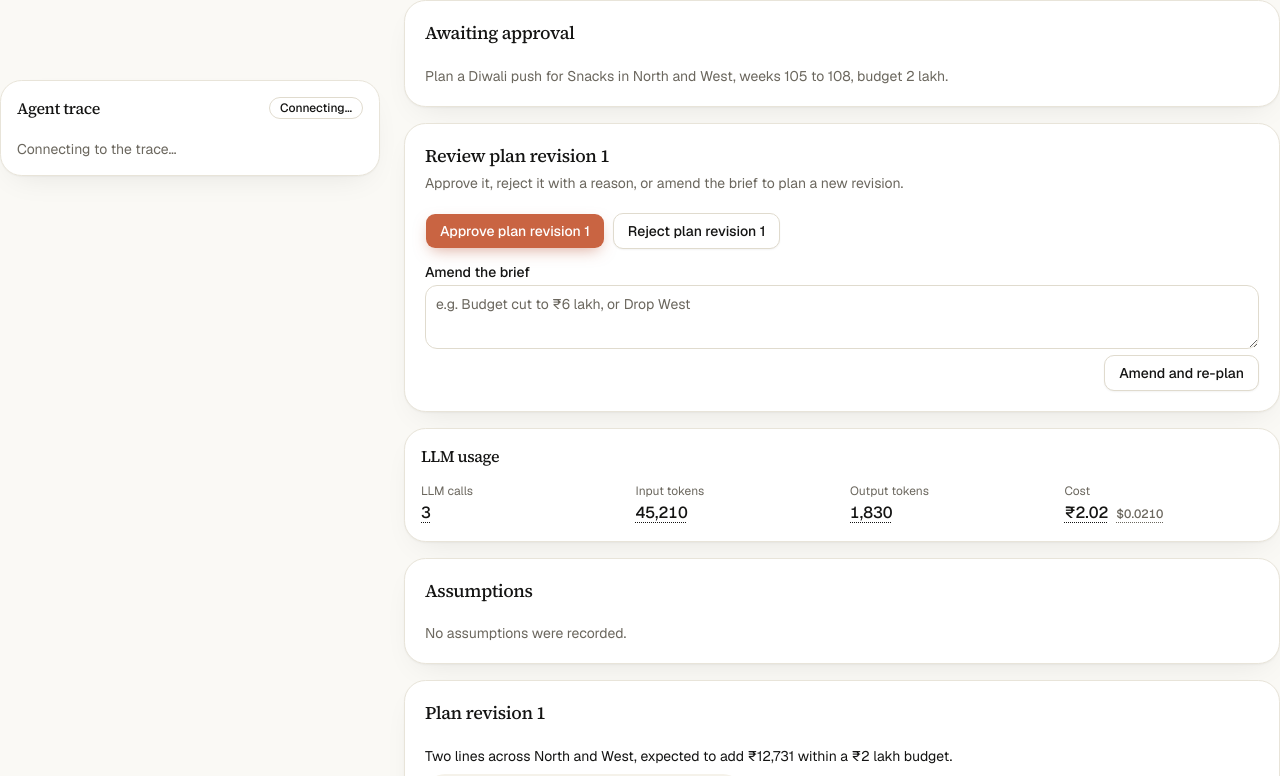
Test case: SessionView › approves the shown revision and shows the session as final
Click the button "Approve plan revision 1".
click(515, 230)  # box x1=425 y1=212 x2=605 y2=248
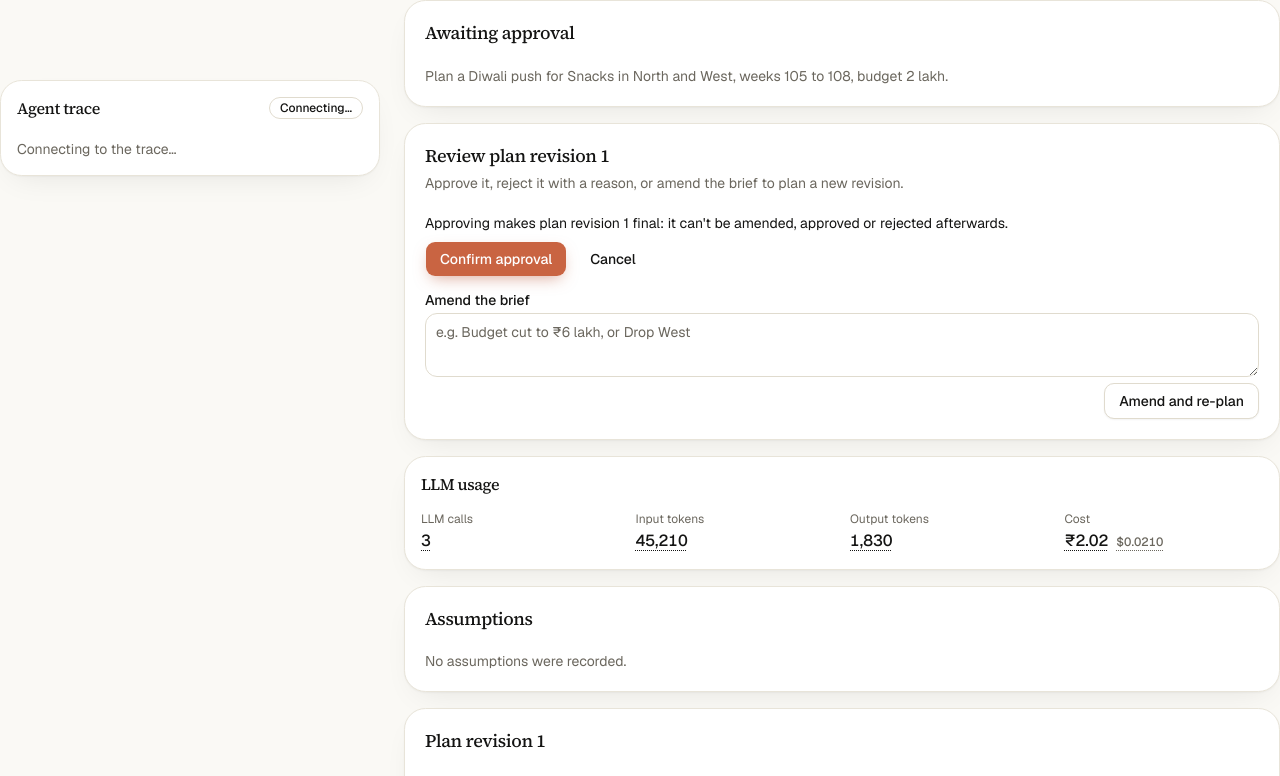
Click the button "Confirm approval".
click(496, 258)  # box x1=425 y1=240 x2=567 y2=276
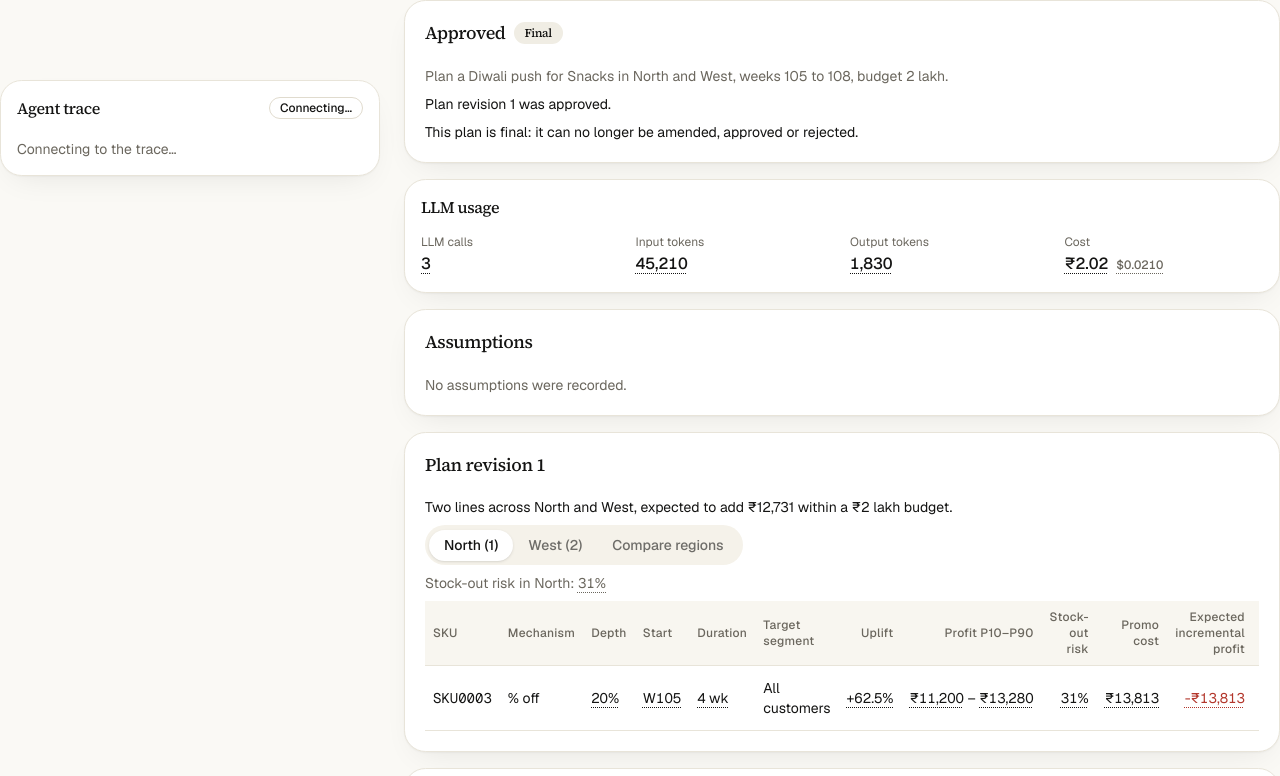
Check: the icon "Final" is shown, box x1=514 y1=22 x2=563 y2=44
Check: the message shows "Approved", box x1=425 y1=20 x2=506 y2=45
Check: the text "Review plan revision" is gone
